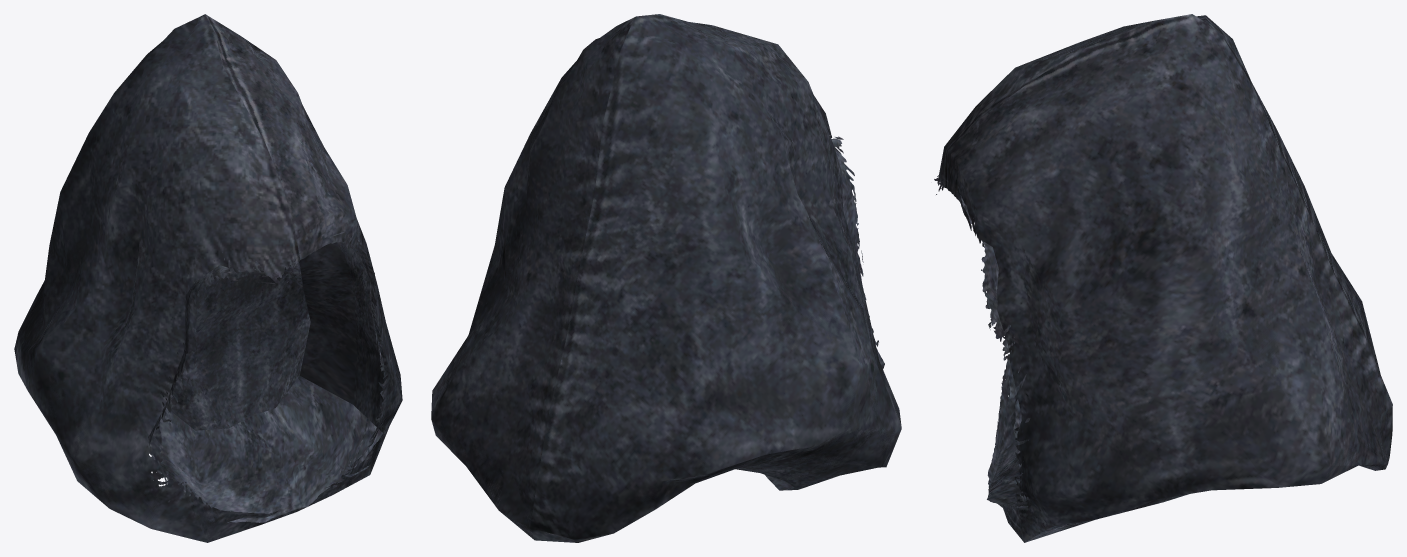
File: Hood_01.fbx
The picture shows the model from 3 angles, left to right: view 1: azimuth 30°, elevation 25°; view 2: azimuth 150°, elevation 25°; view 3: azimuth 270°, elevation 25°; orthographic projection. The views are drawn at different scales.
Parts seen in each view (by area): view 1: F_Human_01_Hood; view 2: F_Human_01_Hood; view 3: F_Human_01_Hood.
Part boxes in pixels (x1,y1,x2,y2): F_Human_01_Hood: [14, 14, 402, 542]; F_Human_01_Hood: [431, 14, 901, 542]; F_Human_01_Hood: [934, 14, 1392, 542].
Bounding box in the file's own units: 30.03 × 38.96 × 32.77.
1 material, 1 textured.
